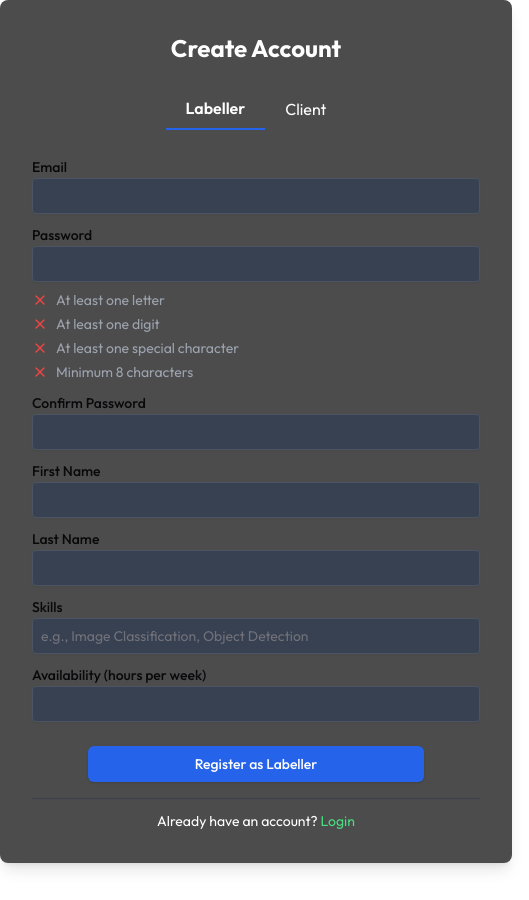
Test: RegisterBox Component › shows error if passwords do not match
Step 1. Type "Password123!" into the password field labelled "Password" → (256, 264), box 32,246 -> 480,282
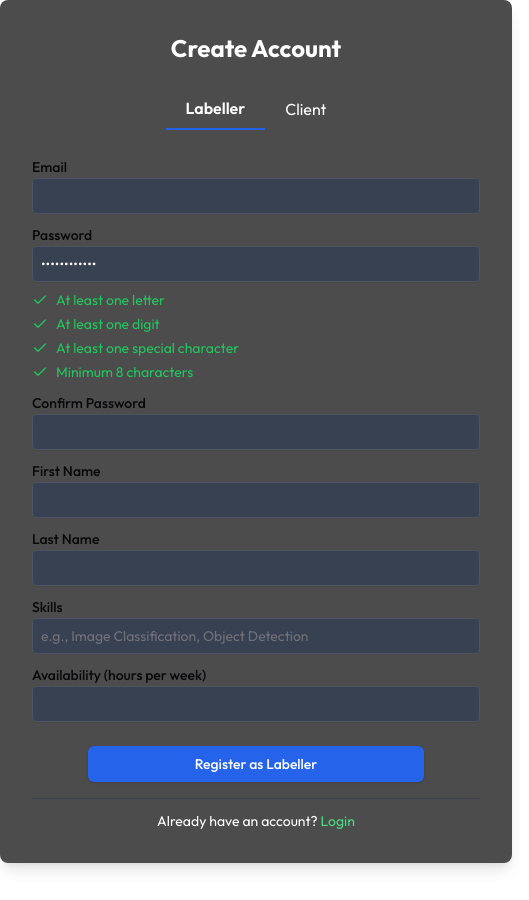
Step 2. Type "DifferentPass!" into the password field labelled "Confirm Password" → (256, 432), box 32,414 -> 480,450
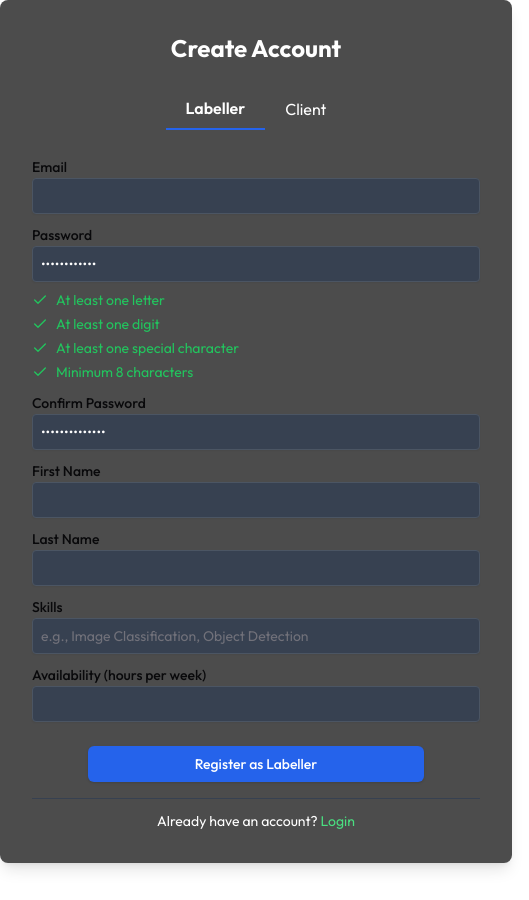
Step 3. Submit the form from the button "Register as Labeller", box 88,746 -> 424,782
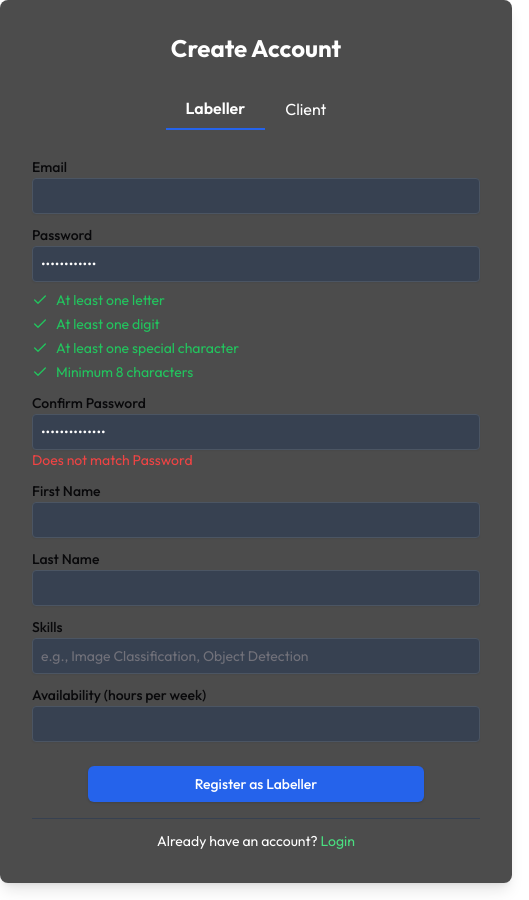
Check: the text "Does not match Password" is shown, box 32,451 -> 193,469
